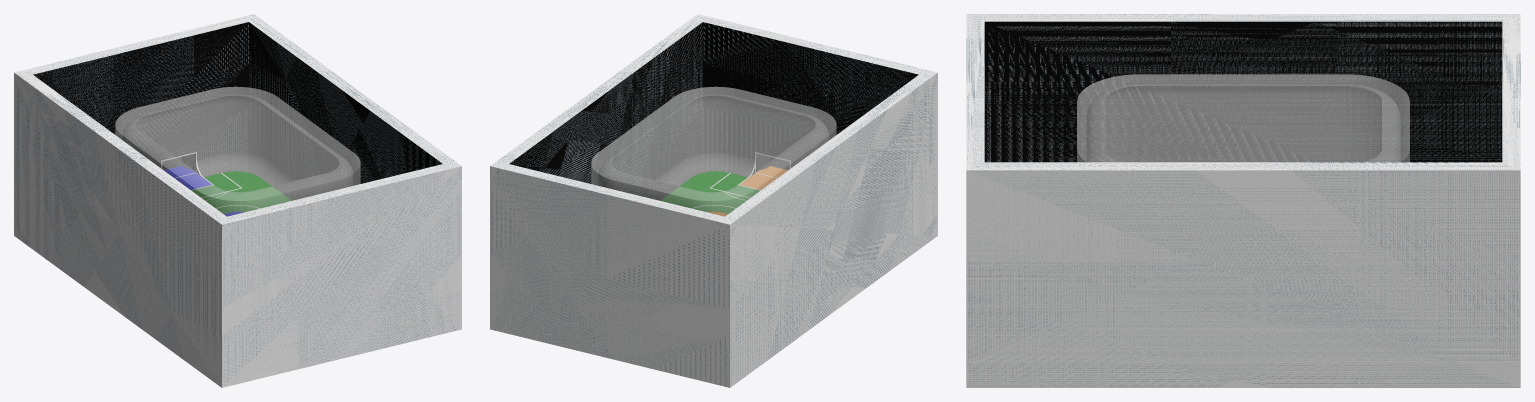
File: Stadium3.dae
The picture shows the model from 3 angles, left to right: view 1: azimuth 30°, elevation 25°; view 2: azimuth 150°, elevation 25°; view 3: azimuth 270°, elevation 25°; orthographic projection. The views are drawn at different scales.
Parts seen in each view (by area): view 1: SketchUp (×7); view 2: SketchUp (×7); view 3: SketchUp (×4).
Part boxes in pixels (x1,y1,x2,y2): SketchUp (×7): [14, 14, 461, 387]; SketchUp (×7): [490, 14, 937, 387]; SketchUp (×4): [966, 14, 1520, 387].
Size of the model in its own units: 787 by 1181 by 512.
